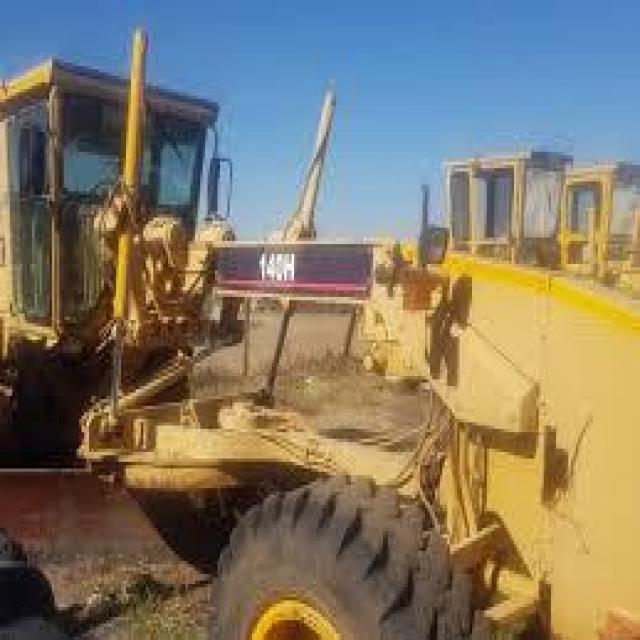Grader: (2, 43, 638, 630)
